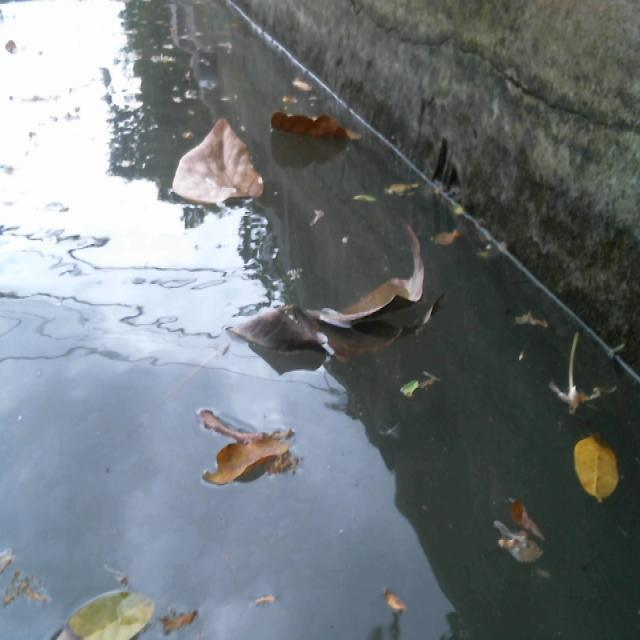Big-leaf: (222, 225, 442, 367), (185, 395, 302, 495), (169, 118, 261, 211), (272, 101, 363, 154)
Small-leaf: (48, 577, 162, 640), (485, 495, 563, 586), (572, 429, 629, 515), (429, 217, 470, 261), (382, 170, 427, 202), (162, 602, 204, 633), (278, 63, 315, 98), (392, 373, 434, 402), (348, 182, 378, 218), (518, 305, 551, 336), (385, 584, 411, 614)
